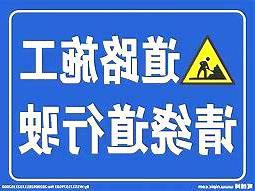sign: (6, 5, 248, 184)
